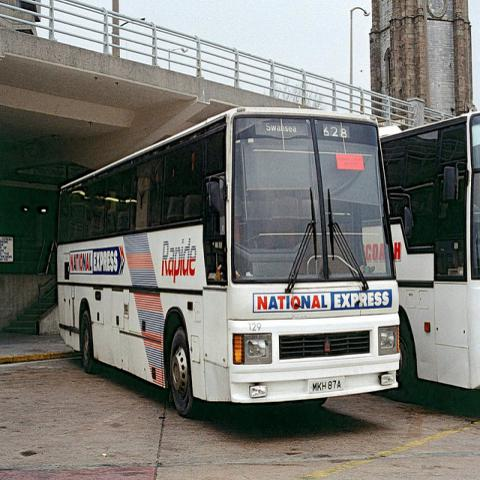bus: (54, 107, 402, 419), (378, 106, 479, 402)
